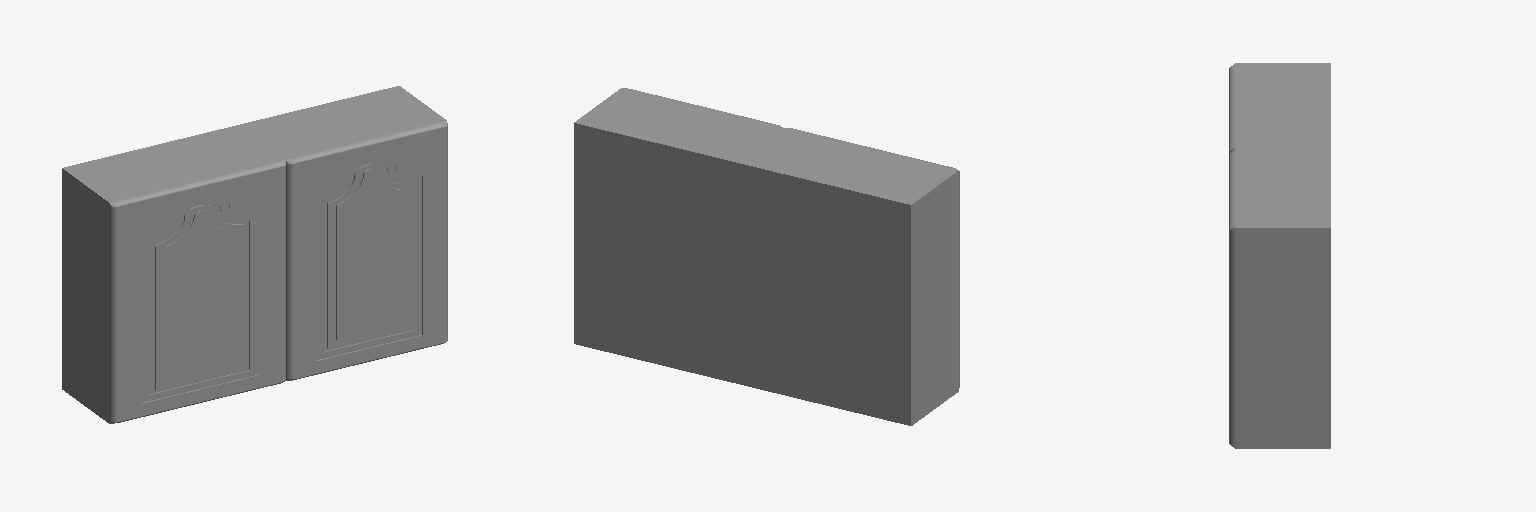
Rendered from double-wall-unit-1150.obj.
3 renders of one model, left to right at view 1: azimuth 30°, elevation 25°; view 2: azimuth 150°, elevation 25°; view 3: azimuth 270°, elevation 25°, orthographic.
Visible parts, largest first — view 1: Cube.003_Cube.008, Cube.004_Cube.000, Cube_Cube.002, Cube.002_Cube.004; view 2: Cube_Cube.002, Cube.002_Cube.004, Cube.001_Cube.003; view 3: Cube.001_Cube.003, Cube_Cube.002, Cube.004_Cube.000, Cube.003_Cube.008.
Part boxes in pixels (x1,y1,x2,y2): Cube.003_Cube.008: (109,160,285,423); Cube.004_Cube.000: (286,120,447,380); Cube_Cube.002: (67,87,441,201); Cube.002_Cube.004: (62,167,112,422); Cube_Cube.002: (578,89,953,424); Cube.002_Cube.004: (907,169,958,425); Cube.001_Cube.003: (574,88,624,344); Cube.001_Cube.003: (1236,226,1330,448); Cube_Cube.002: (1236,65,1330,225); Cube.004_Cube.000: (1229,149,1235,448); Cube.003_Cube.008: (1229,63,1235,153).
Bounding box in the file's own units: 230 × 144 × 60.